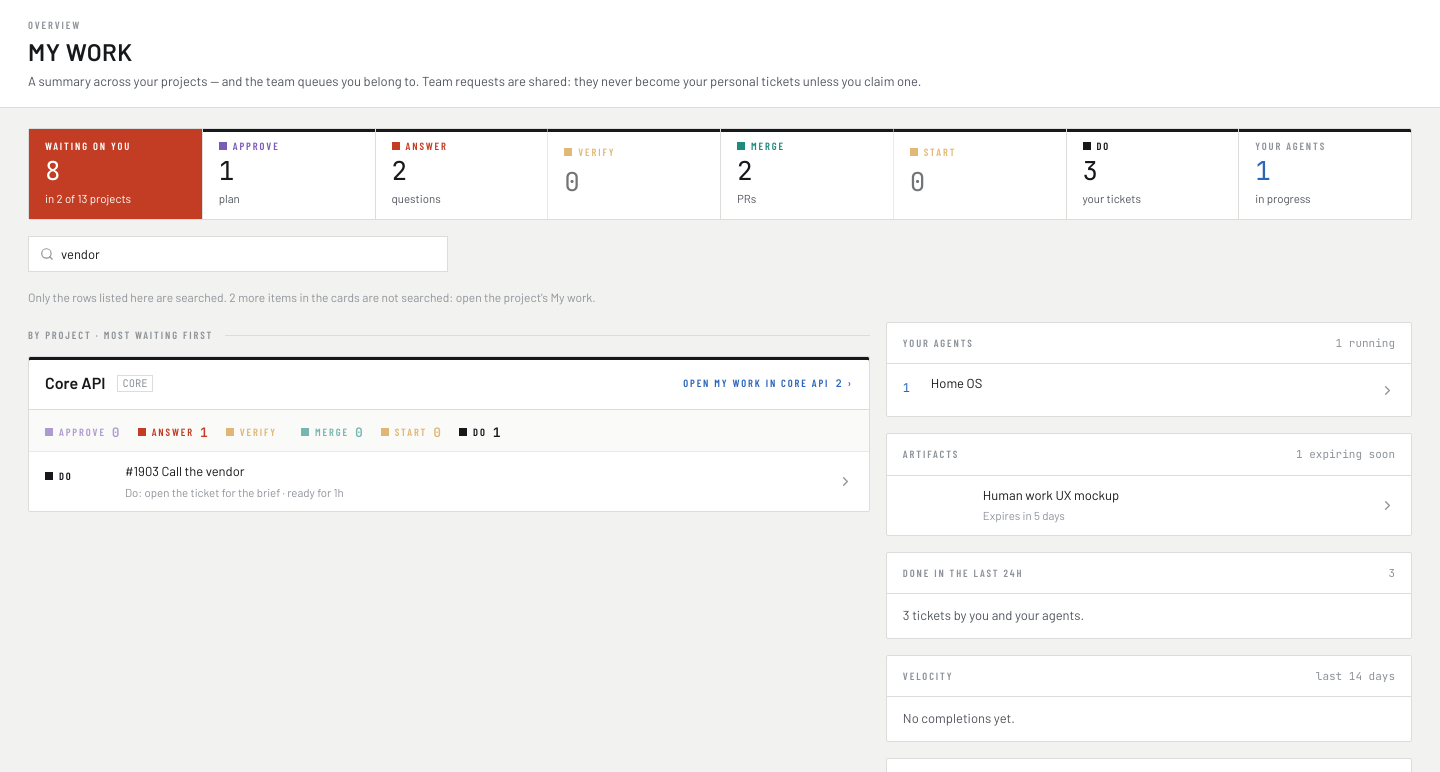
find box (#155) › Escape clears the box and brings the rows back
Click the search field named "Find in My work" at (238, 254), box [28,236,448,272]
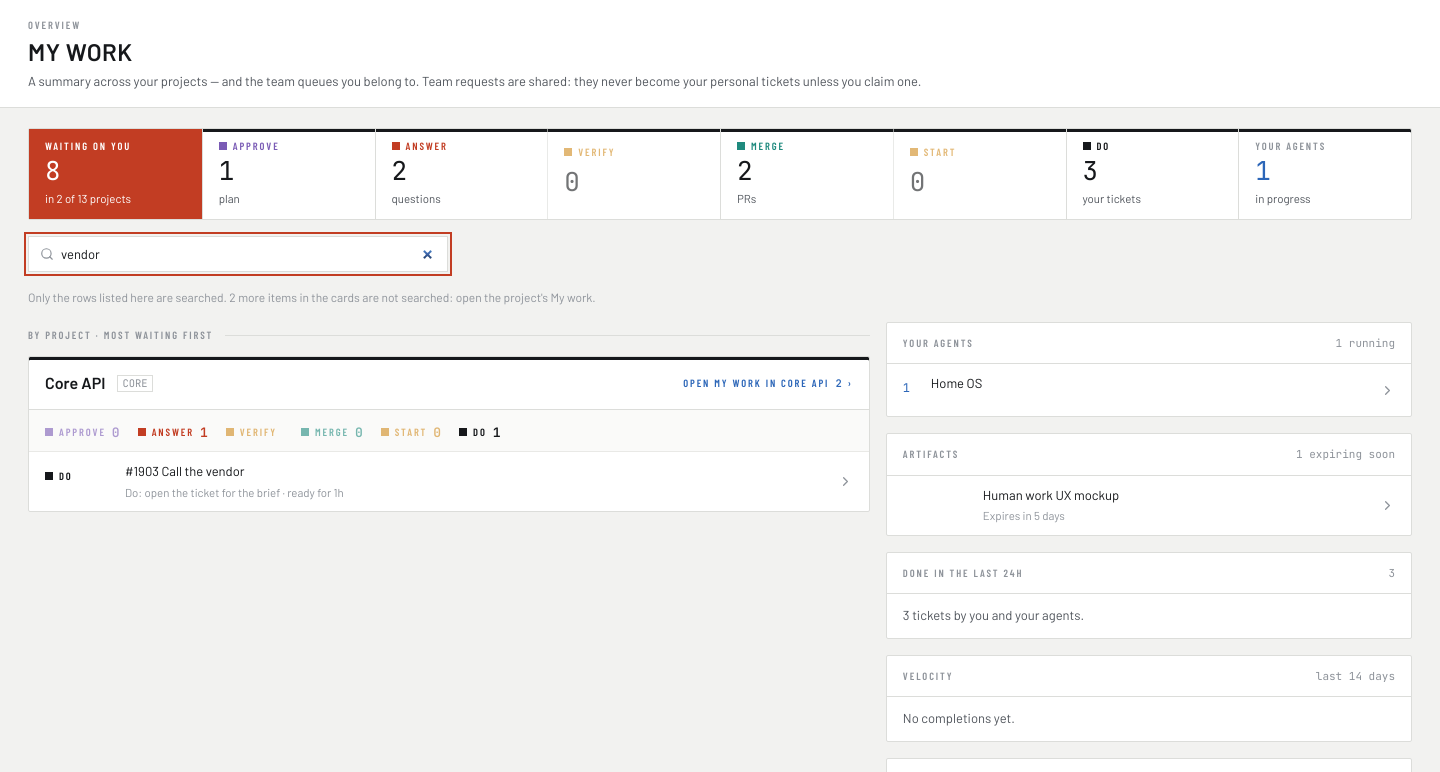
Press Escape
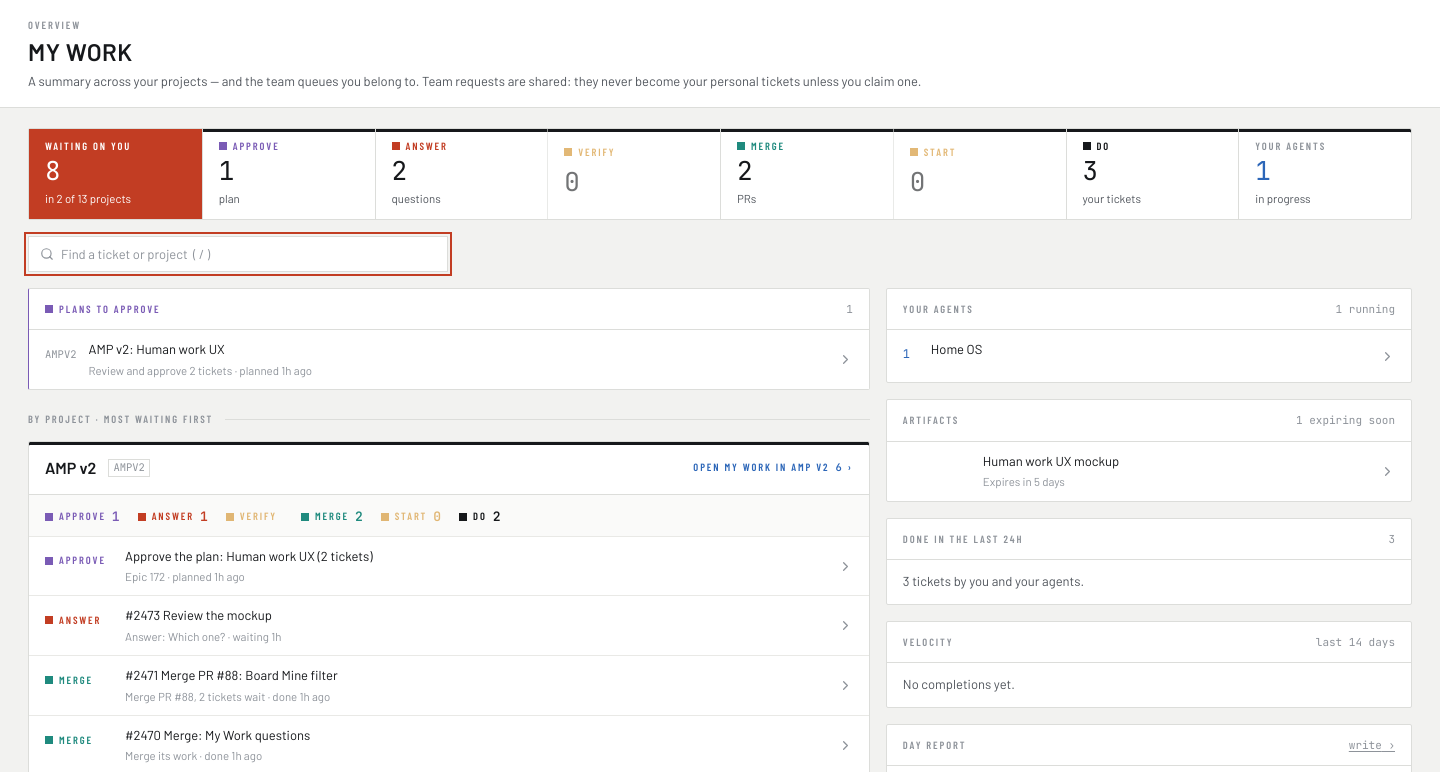
Result: the search field named "Find in My work" is empty at [28,236,448,272]
Result: the heading "AMP v2" is shown at [45,456,96,480]
